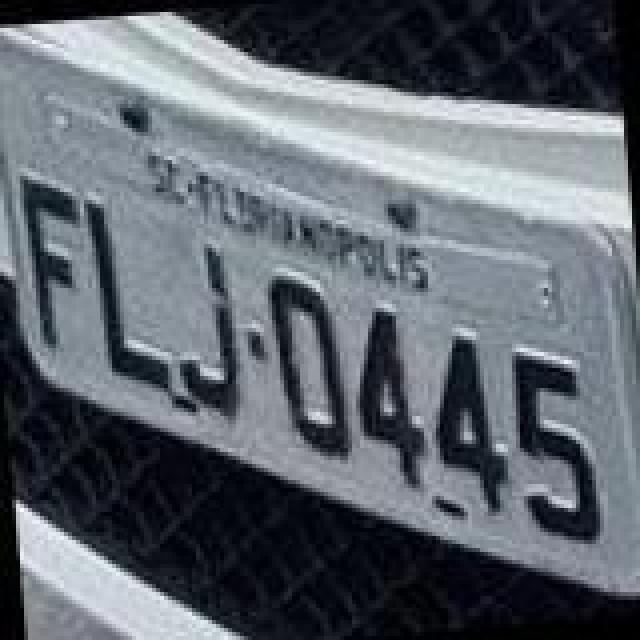4: (424, 322, 520, 518), (346, 304, 438, 496)
5: (506, 342, 606, 554)
F: (16, 162, 96, 350)
J: (170, 236, 246, 420)
L: (80, 192, 176, 400)
O: (266, 264, 358, 464)
